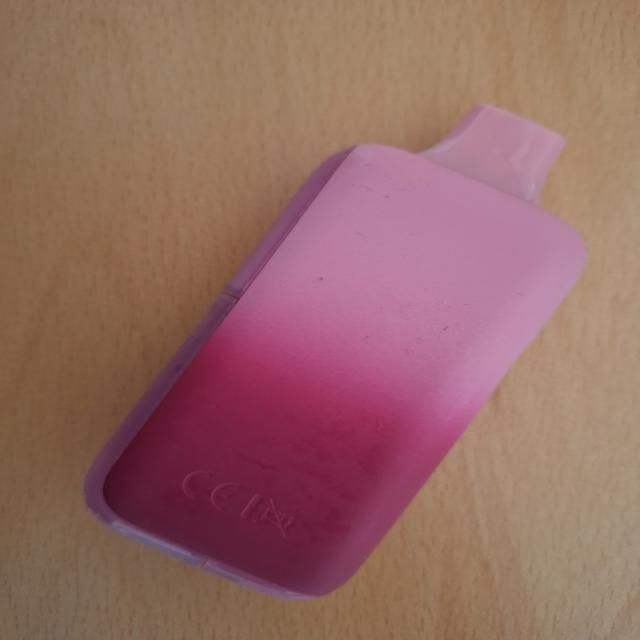Hazard: (82, 102, 587, 601)
